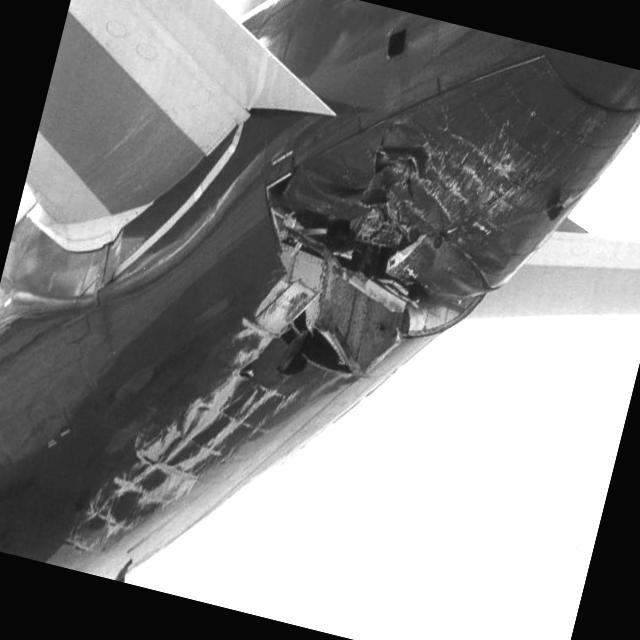crack: (281, 312, 348, 374), (296, 209, 354, 253), (340, 240, 396, 278), (399, 279, 422, 303)
dent: (66, 317, 288, 552), (362, 127, 523, 252), (0, 258, 124, 399), (292, 9, 385, 96), (282, 137, 369, 221)
